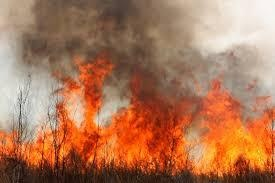fire: (17, 53, 274, 171)
